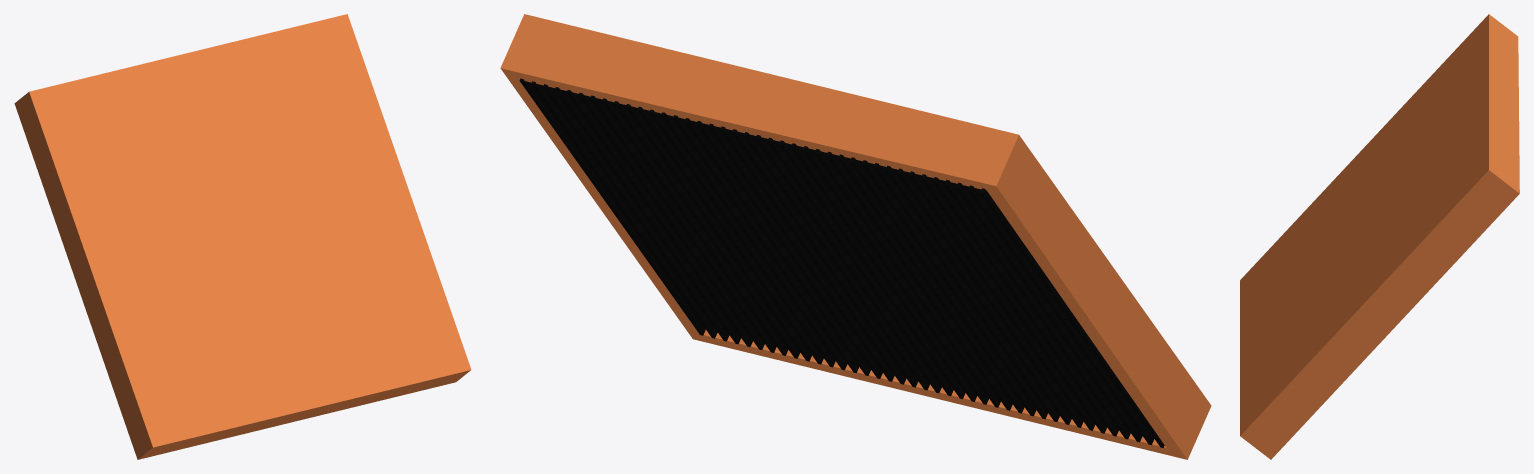
The model's file is airVent[mini][single][TOP].fbx.
3 views of the same model, side by side, from view 1: azimuth 30°, elevation 25°; view 2: azimuth 150°, elevation 25°; view 3: azimuth 270°, elevation 25° (orthographic). The views are drawn at different scales.
Parts seen in each view (by area): view 1: VentAir0[mini][single]; view 2: VentAir0[mini][single]; view 3: VentAir0[mini][single].
Part boxes in pixels (x1=…): VentAir0[mini][single]: x1=14, y1=14, x2=471, y2=459; VentAir0[mini][single]: x1=500, y1=14, x2=1211, y2=459; VentAir0[mini][single]: x1=1240, y1=14, x2=1519, y2=459.
Size of the model in its own units: 38.88 by 33.69 by 29.46.
